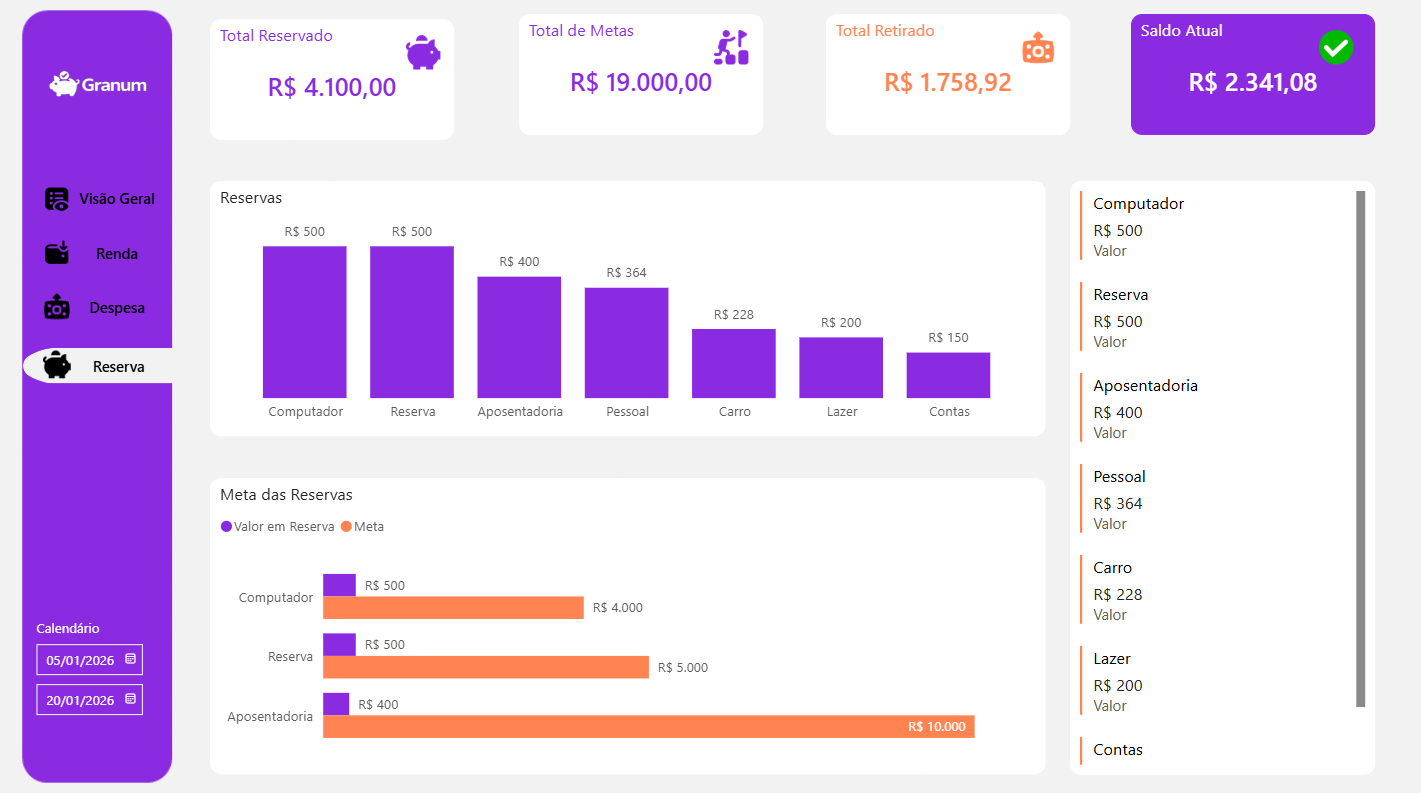

What the dashboard file says about the page in this screenshot:
{"tool":"powerbi","page":{"name":"Reserva","canvas":[1280,720],"ordinal":3},"visuals":[{"type":"card","title":"Total de Metas","fields":{"Values":["Medidas.Total de Metas"]},"box":[467.3,15.1,219.9,109.1],"z":0,"group":"g6"},{"type":"shape","box":[12.7,166.1,165.8,31.9],"z":0,"group":"g1"},{"type":"shape","box":[12.7,214.9,165.8,31.9],"z":0,"group":"g2"},{"type":"shape","box":[12.7,263.7,165.8,31.9],"z":0,"group":"g3"},{"type":"shape","box":[14.6,316.1,165.3,32.1],"z":0,"group":"g4"},{"type":"slicer","fields":{"Values":["Controle Financeiro.Data "]},"box":[19.5,555.1,135.7,102.9],"z":0},{"type":"card","title":"Total Reservado","fields":{"Values":["Medidas.Receita Reservada"]},"box":[188.9,19.5,219.9,109.1],"z":1000,"group":"g5"},{"type":"image","box":[41.1,158.1,21.3,48.8],"z":1000,"group":"g1"},{"type":"image","box":[41.1,205.1,21.3,48.8],"z":1000,"group":"g2"},{"type":"image","box":[39.2,252.1,24.8,52.3],"z":1000,"group":"g3"},{"type":"image","box":[39.2,304.4,24.8,52.3],"z":1000,"group":"g4"},{"type":"card","title":"Total Retirado","fields":{"Values":["Medidas.Total de Gastos"]},"box":[743.9,15.1,219.9,109.1],"z":2000,"group":"g7"},{"type":"group","id":"g1","title":"Grupo 1","box":[12.7,158.1,165.8,48.8],"z":2000},{"type":"card","title":"Saldo Atual","fields":{"Values":["Medidas.Total Reservado"]},"box":[1018.8,15.1,219.9,109.1],"z":3000,"group":"g8"},{"type":"group","id":"g2","title":"Grupo 1","box":[12.7,205.1,165.8,48.8],"z":3000},{"type":"image","box":[1188.2,19.5,31,50.5],"z":4000,"group":"g8"},{"type":"group","id":"g3","title":"Grupo 1","box":[12.7,252.1,165.8,52.3],"z":4000},{"type":"image","box":[919.5,19.5,31,50.5],"z":5000,"group":"g7"},{"type":"group","id":"g4","title":"Grupo 1","box":[14.6,304.4,165.3,52.3],"z":5000},{"type":"image","box":[365.4,23.9,31,50.5],"z":6000,"group":"g5"},{"type":"clusteredBarChart","title":"Meta das Reservas","fields":{"Category":["Reserva Financeira.Nome"],"Y":["Sum(Reserva Financeira.Valor Total)","Sum(Reserva Financeira.Meta)"]},"box":[188.9,433.6,752.8,266.9],"z":6000},{"type":"image","box":[642.9,19.5,31,50.5],"z":7000,"group":"g6"},{"type":"multiRowCard","fields":{"Values":["Reserva Financeira.Nome","Reserva Financeira.Valor Total"]},"box":[963.8,165.8,274.9,534.7],"z":7000},{"type":"group","id":"g5","title":"Grupo 2","box":[188.9,19.5,219.9,109.1],"z":8000},{"type":"group","id":"g6","title":"Grupo 3","box":[467.3,15.1,219.9,109.1],"z":9000},{"type":"group","id":"g7","title":"Grupo 4","box":[743.9,15.1,219.9,109.1],"z":10000},{"type":"group","id":"g8","title":"Grupo 5","box":[1018.8,15.1,219.9,109.1],"z":11000},{"type":"clusteredColumnChart","title":"Reservas","fields":{"Category":["Reserva Financeira.Nome"],"Y":["Medidas.Total em Reservas"]},"box":[188.9,165.8,752.8,229.7],"z":12000},{"type":"image","box":[0,0,173.8,165.8],"z":12001}]}

Visuals, with their boxes on the page's 1280x720 design canvas (x1, y1, x2, y2). These are canvas units, not pixel positions in the 1421x793 screenshot, which may show the page scaled, cropped or inside an application window:
"Total de Metas" card: detection(467, 15, 687, 124)
shape: detection(13, 166, 178, 198)
shape: detection(13, 215, 178, 247)
shape: detection(13, 264, 178, 296)
shape: detection(15, 316, 180, 348)
slicer - Controle Financeiro.Data : detection(20, 555, 155, 658)
"Total Reservado" card: detection(189, 20, 409, 129)
image: detection(41, 158, 62, 207)
image: detection(41, 205, 62, 254)
image: detection(39, 252, 64, 304)
image: detection(39, 304, 64, 357)
"Total Retirado" card: detection(744, 15, 964, 124)
"Grupo 1" group: detection(13, 158, 178, 207)
"Saldo Atual" card: detection(1019, 15, 1239, 124)
"Grupo 1" group: detection(13, 205, 178, 254)
image: detection(1188, 20, 1219, 70)
"Grupo 1" group: detection(13, 252, 178, 304)
image: detection(920, 20, 950, 70)
"Grupo 1" group: detection(15, 304, 180, 357)
image: detection(365, 24, 396, 74)
"Meta das Reservas" clusteredBarChart: detection(189, 434, 942, 700)
image: detection(643, 20, 674, 70)
multiRowCard - Reserva Financeira.Nome x Reserva Financeira.Valor Total: detection(964, 166, 1239, 700)
"Grupo 2" group: detection(189, 20, 409, 129)
"Grupo 3" group: detection(467, 15, 687, 124)
"Grupo 4" group: detection(744, 15, 964, 124)
"Grupo 5" group: detection(1019, 15, 1239, 124)
"Reservas" clusteredColumnChart: detection(189, 166, 942, 396)
image: detection(0, 0, 174, 166)
